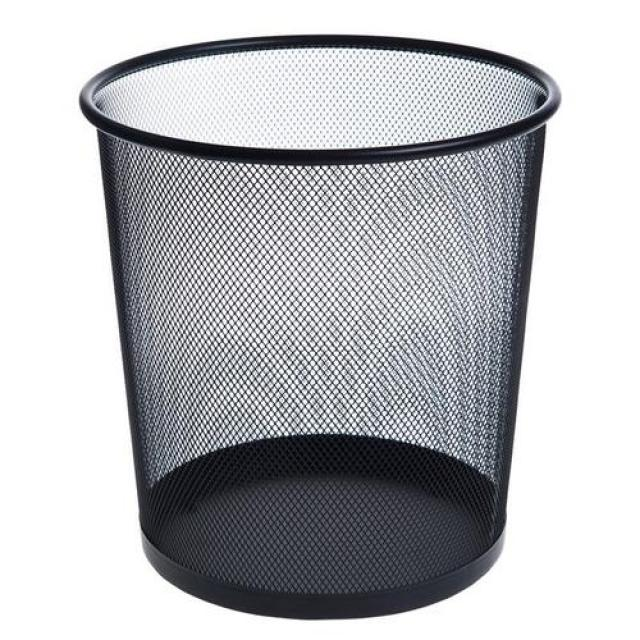dustbin: (75, 29, 566, 624)
